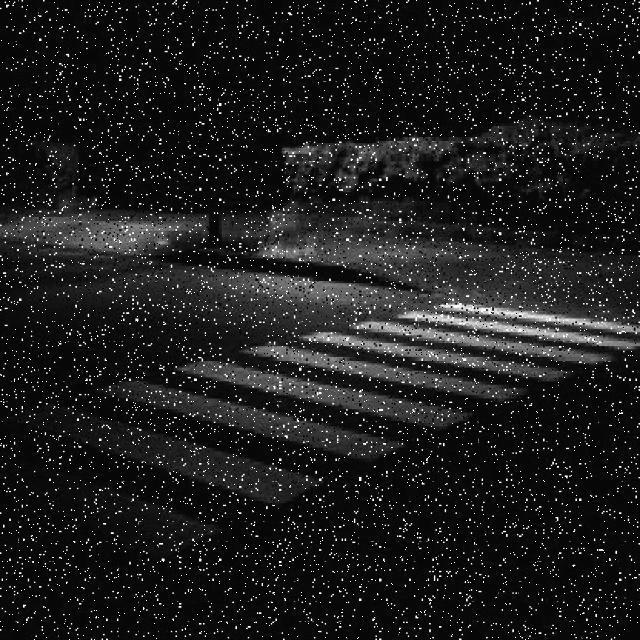Pedestrian crosswalk: (23, 297, 634, 563)
